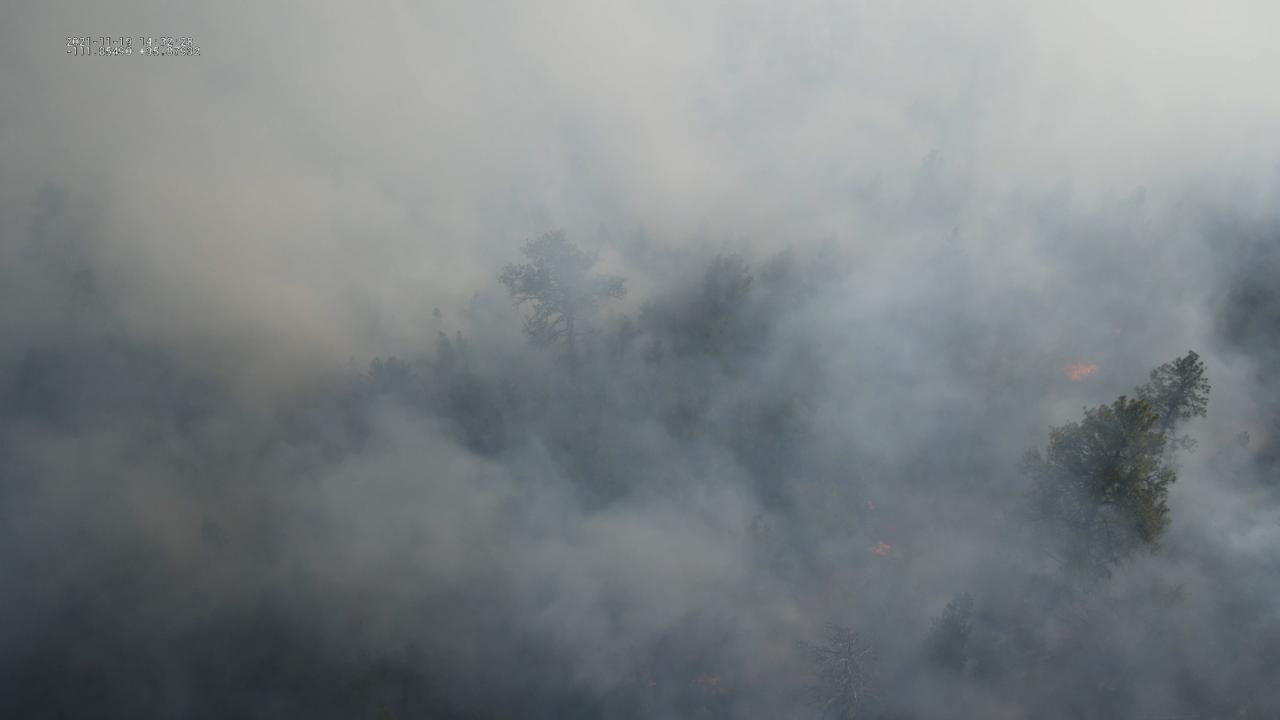fire: (1060, 357, 1098, 386), (867, 541, 893, 558), (866, 500, 879, 513), (647, 681, 658, 690)
smoke: (0, 0, 1280, 720)
